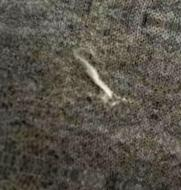snag: (69, 46, 126, 109)
